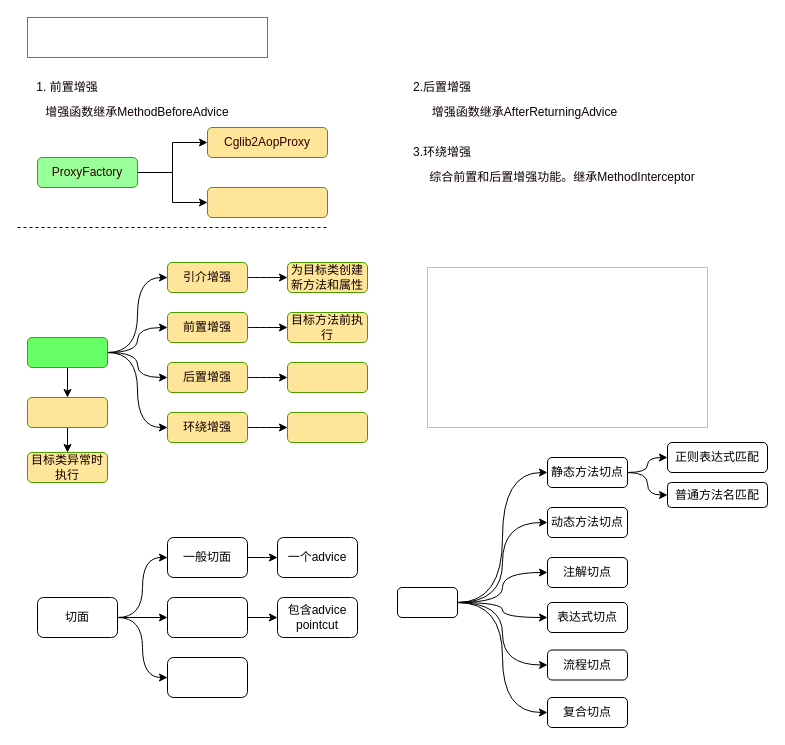
Some shapes in this 785 by 745 pixel diagram are drawn without their labels. The shapes that lost their labels are listed below. From the top down, each one's centre as x and y in pixels, then its label:
At pixel 147 37: "Spring AOP 基础".
At pixel 267 202: "JdkDynamicAopProxy".
At pixel 67 352: "增强".
At pixel 567 347: "对比项 区别 增强 织入方法前、后 切入点 织入那些类那些方法上".
At pixel 327 377: "目标方法后执行".
At pixel 67 412: "异常抛出增强".
At pixel 327 427: "目标方法前和后执行".
At pixel 207 617: "切点切面".
At pixel 427 602: "切点".
At pixel 207 677: "引介切面".
